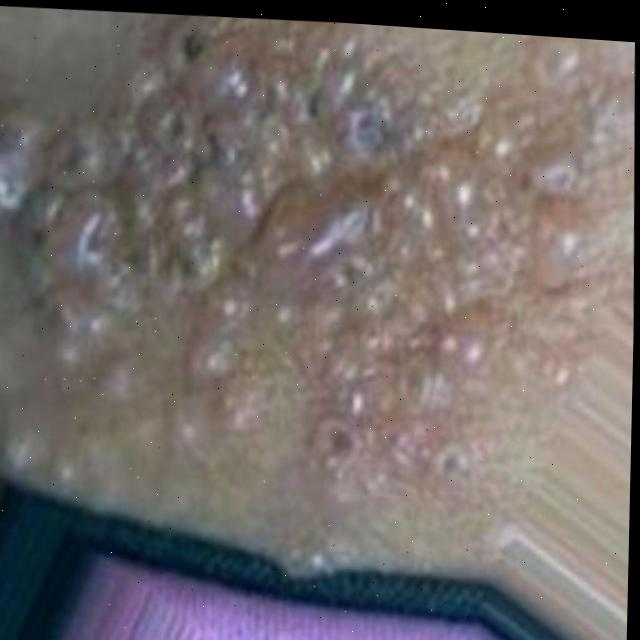Shingles: (8, 21, 589, 487)
